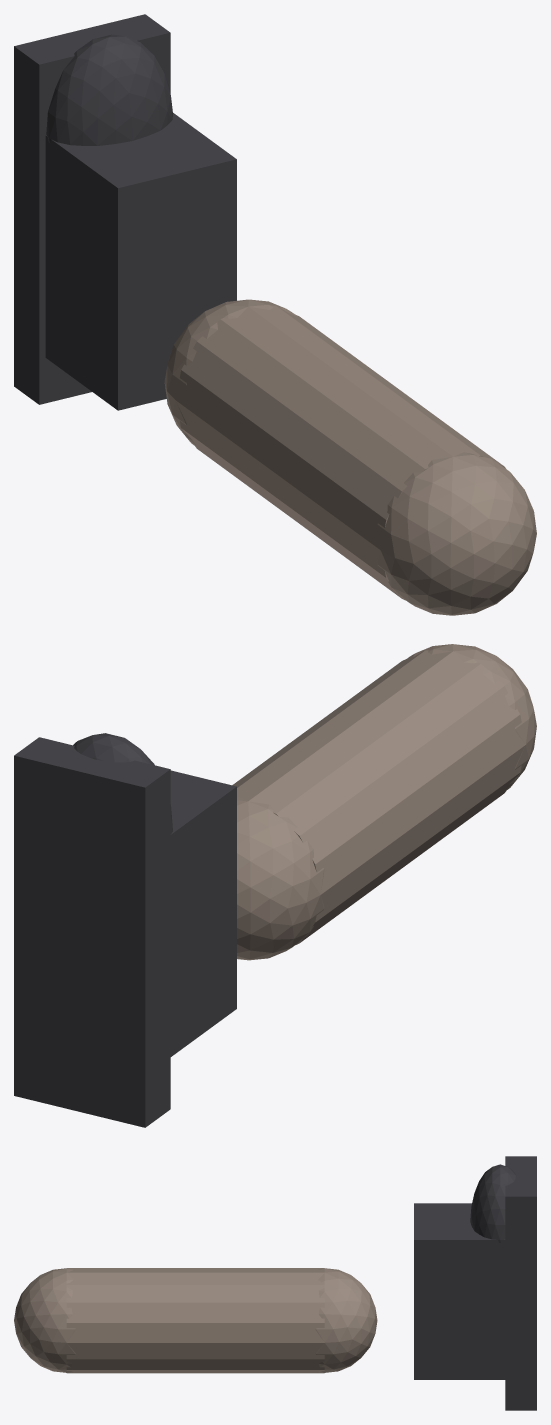
Rendered from windman_left_lower_leg.glb.
The picture shows the model from 3 angles, top to bottom: view 1: azimuth 30°, elevation 25°; view 2: azimuth 150°, elevation 25°; view 3: azimuth 270°, elevation 25°; orthographic projection. The views are drawn at different scales.
Visible parts, largest first — view 1: geometry_0; view 2: geometry_0; view 3: geometry_0.
Boxes of the visible parts, x1,y1,x2,y2 form: geometry_0: (14, 14, 536, 615); geometry_0: (14, 644, 536, 1127); geometry_0: (14, 1156, 536, 1410).
Size of the model in its own units: 0.116 by 0.271 by 0.5755.
